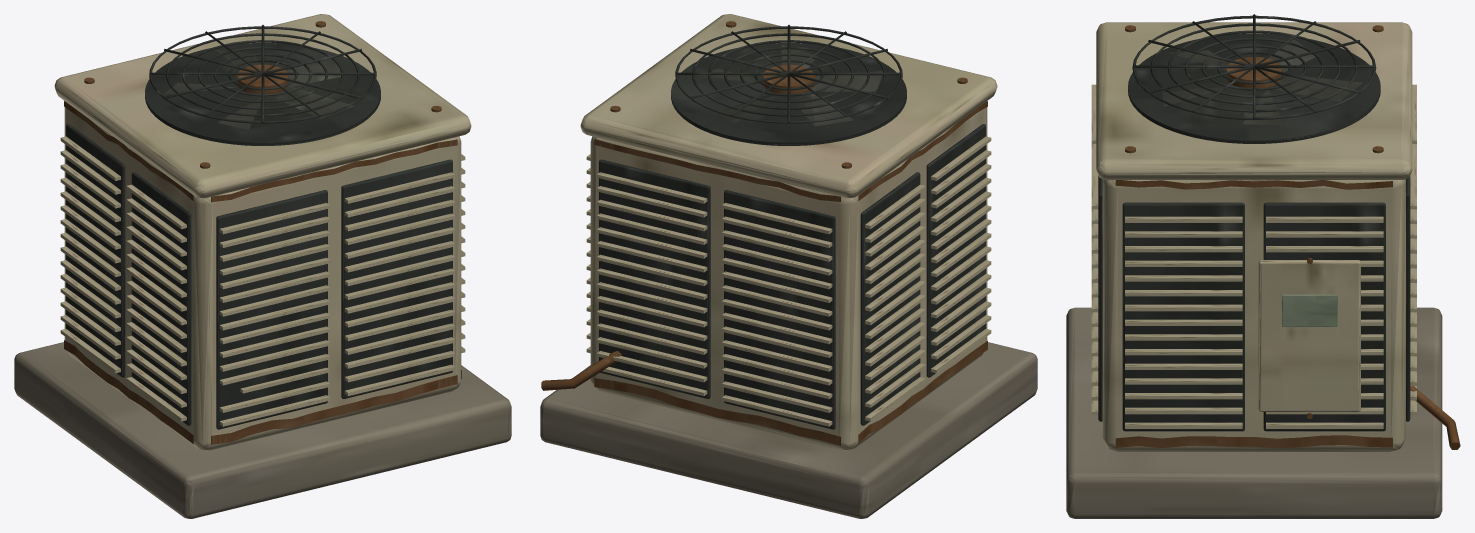
The model's file is by_ac_unit.glb.
3 renders of one model, left to right at view 1: azimuth 30°, elevation 25°; view 2: azimuth 150°, elevation 25°; view 3: azimuth 270°, elevation 25°, orthographic. The views are drawn at different scales.
Parts seen in each view (by area): view 1: by_ac_unit; view 2: by_ac_unit; view 3: by_ac_unit.
Part boxes in pixels (x1,y1,x2,y2): by_ac_unit: (14,14,511,518); by_ac_unit: (540,14,1037,518); by_ac_unit: (1066,14,1460,518).
Bounding box in the file's own units: 0.95 × 0.9585 × 0.9229.
Materials: 1 (1 with a texture image).
